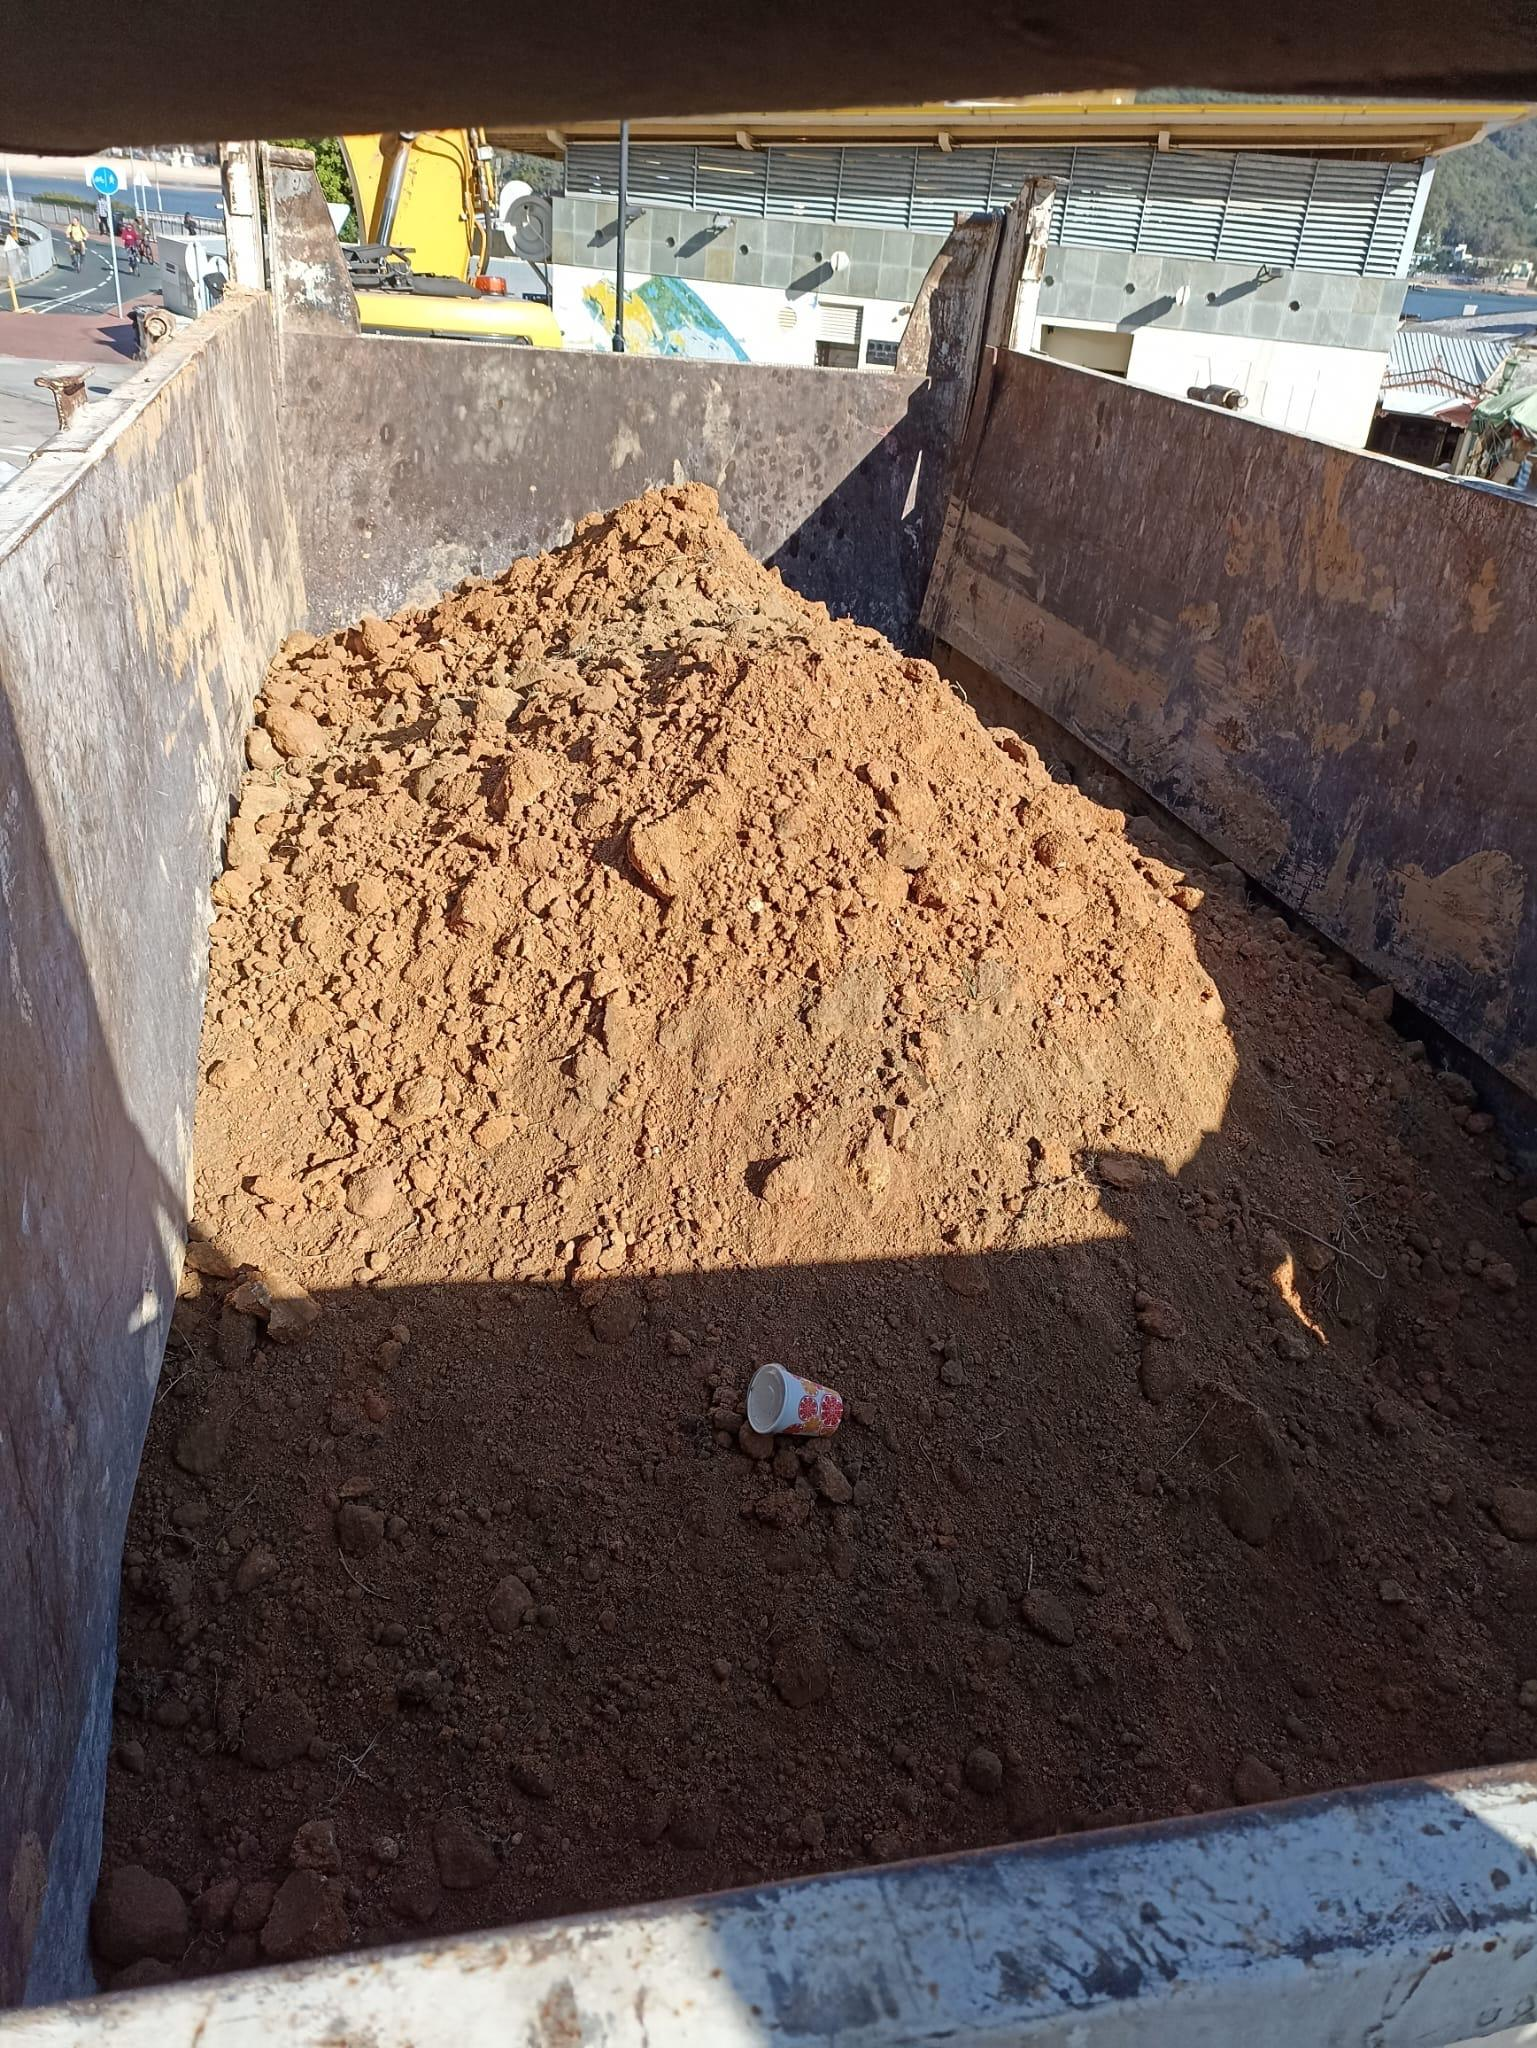dry: (107, 476, 1524, 1971)
